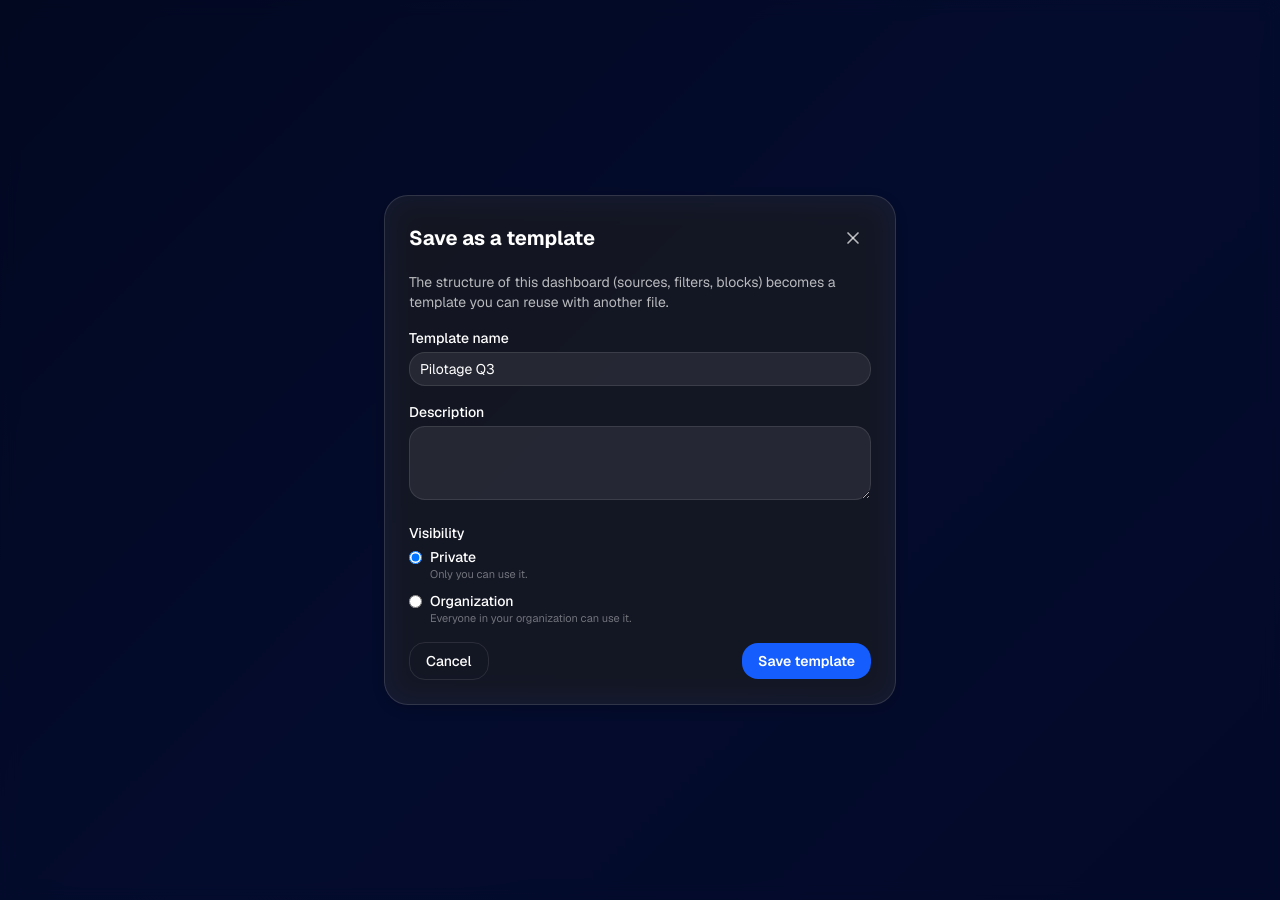
Test: SaveAsTemplateModal › explains a 409 as a name already taken and stays open
This screenshot has width=1280, height=900.
Click the button "Save template" at (806, 661), box [742,643,871,679]
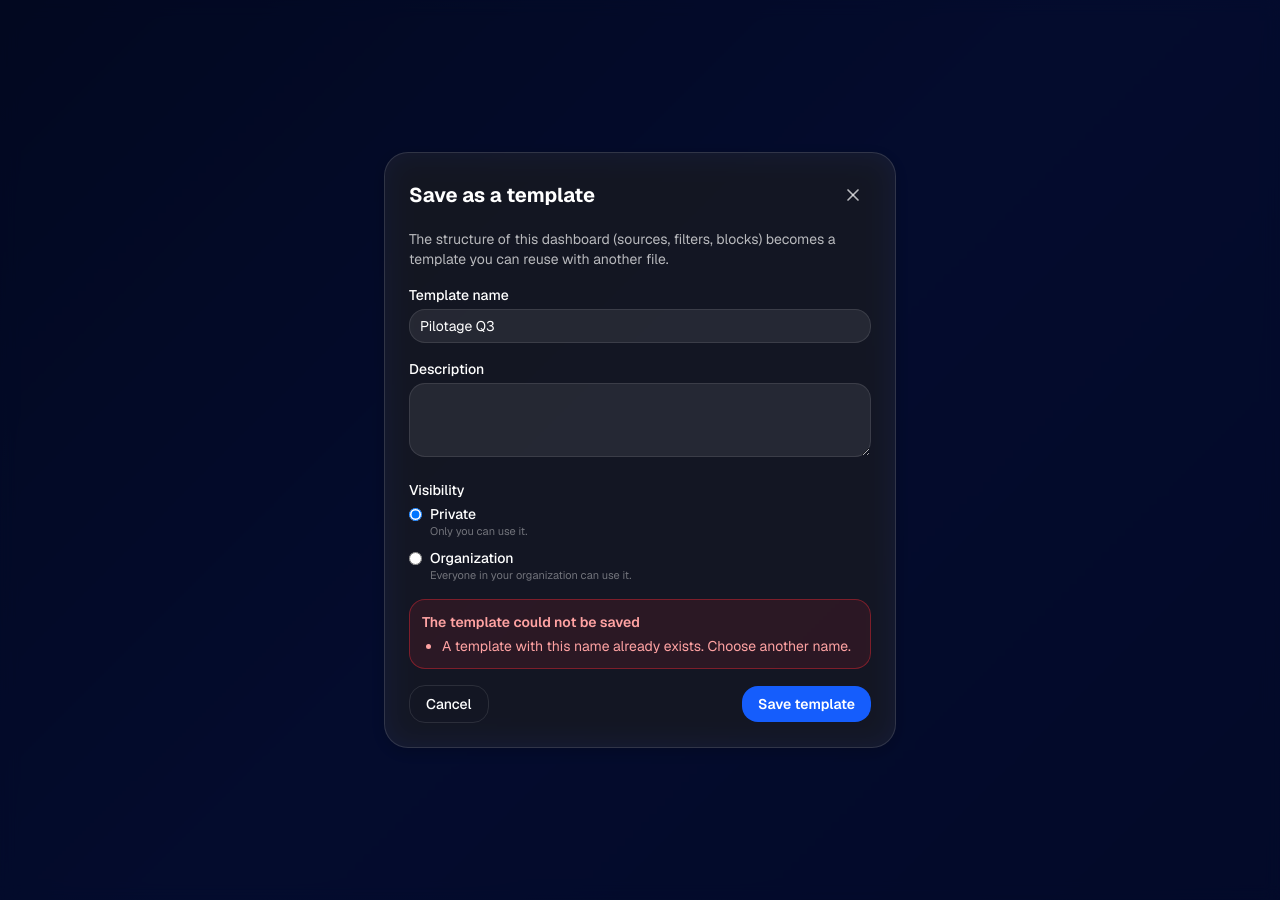
Expected: the button "Save template" is enabled, [742,686,871,722]
Result: the message shows "A template with this name already exists" at [442,637,851,655]
